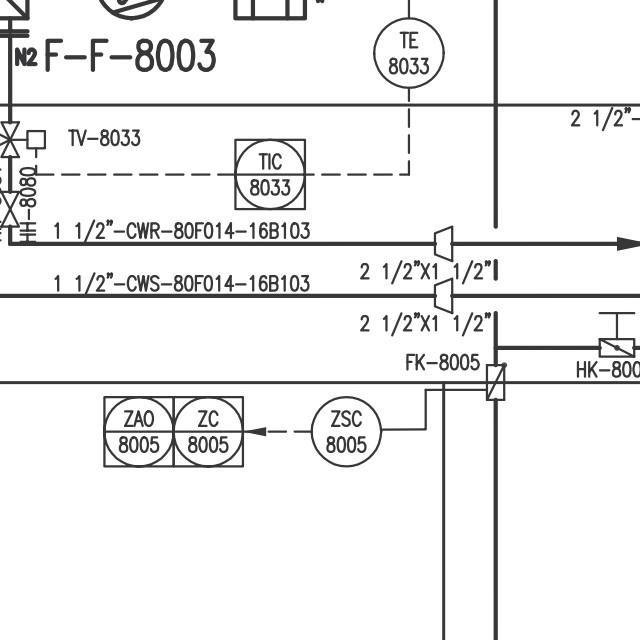BV: (592, 303, 639, 359)
CV2: (484, 360, 509, 402)
GV: (0, 187, 23, 229)
SP: (431, 223, 459, 262), (430, 276, 458, 314)
